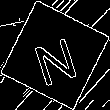N_N: (28, 25, 82, 85)
